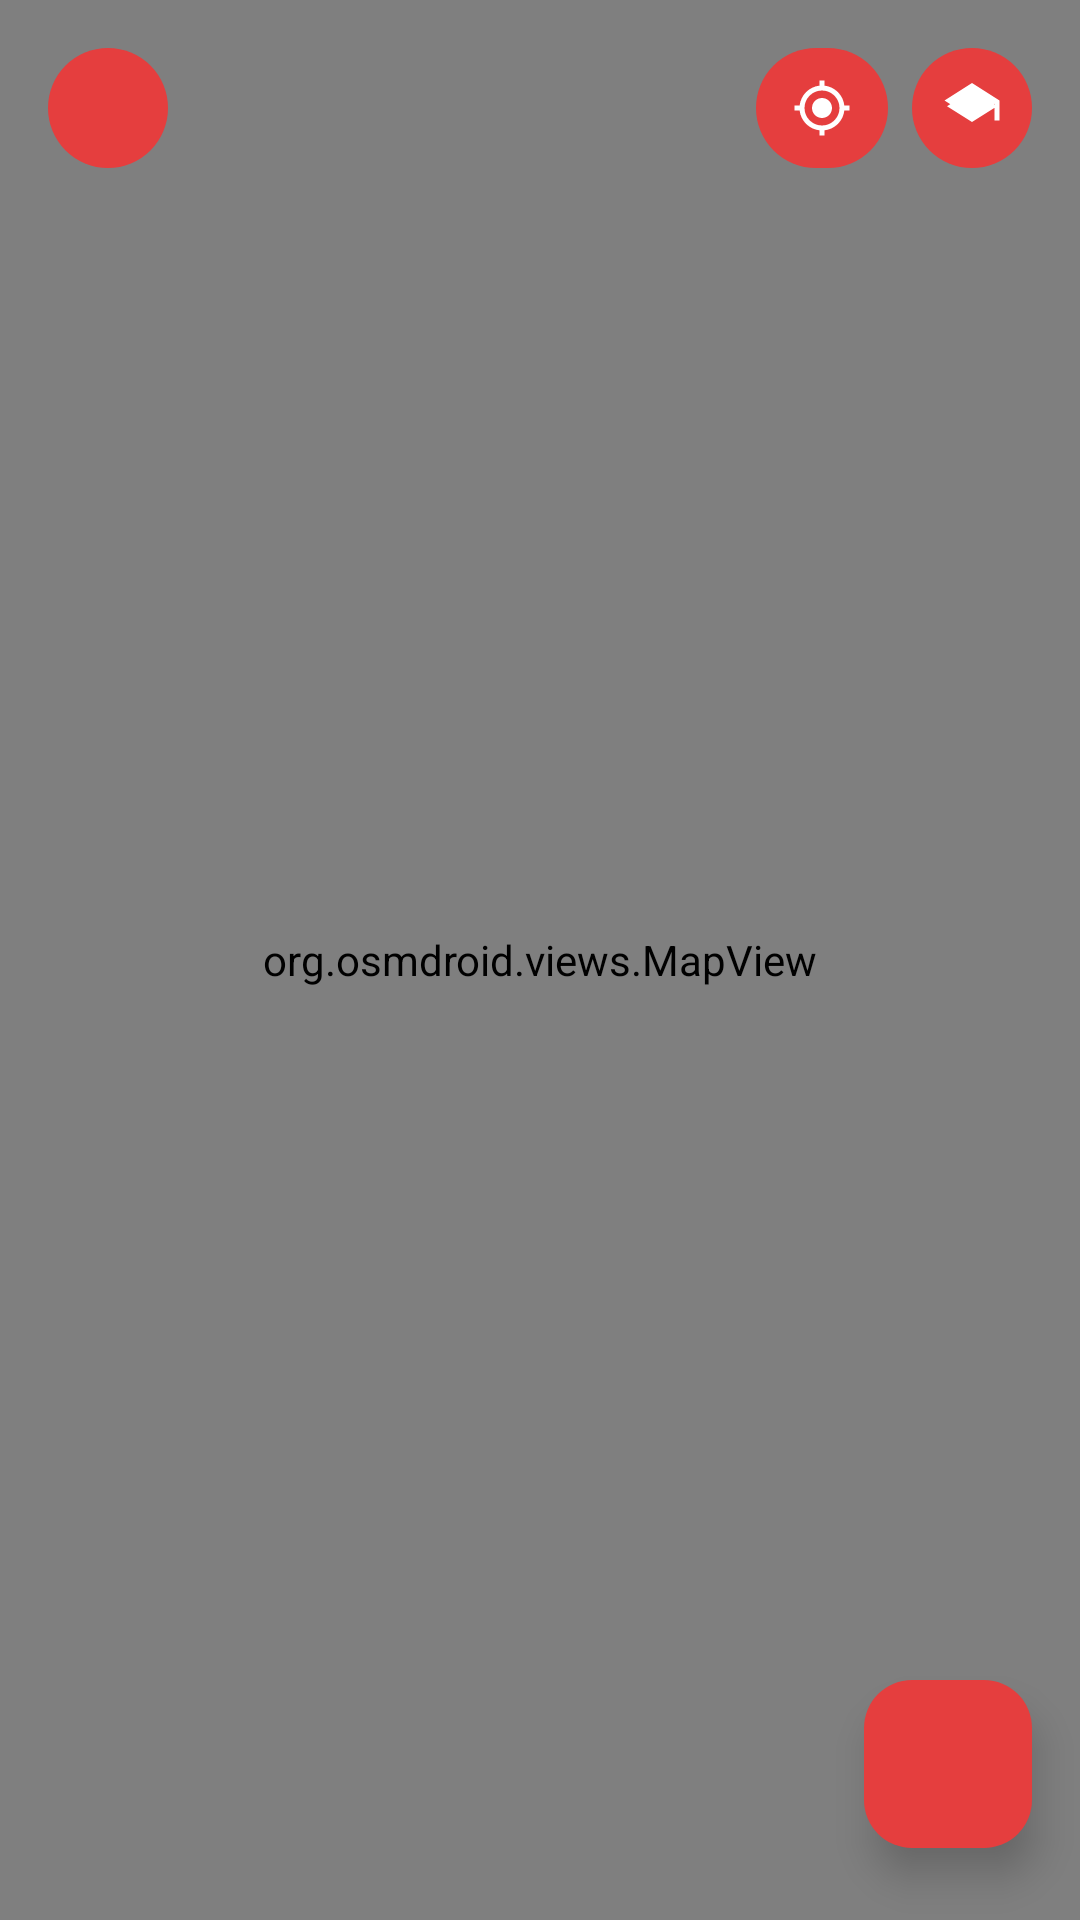

Icons on this 1080w x 1920h Android screen, each with the point to tap as (x=x, y=y):
location: (x=822, y=108)
